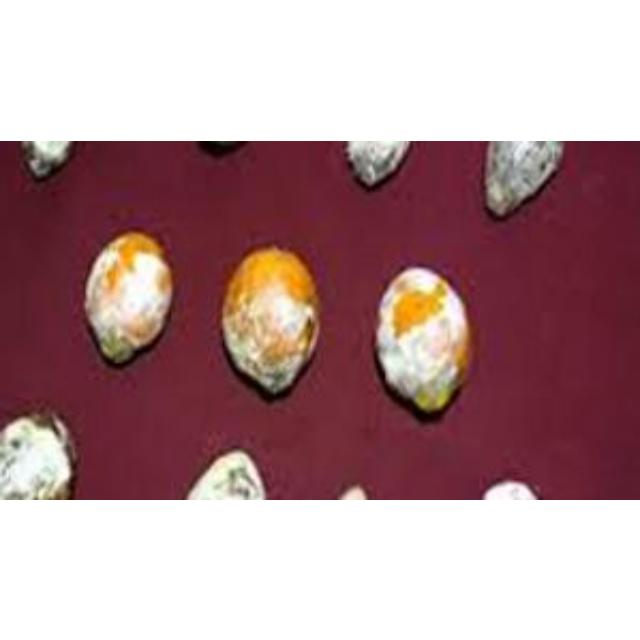damaged: (375, 264, 477, 425), (220, 245, 321, 401), (81, 228, 178, 371)
